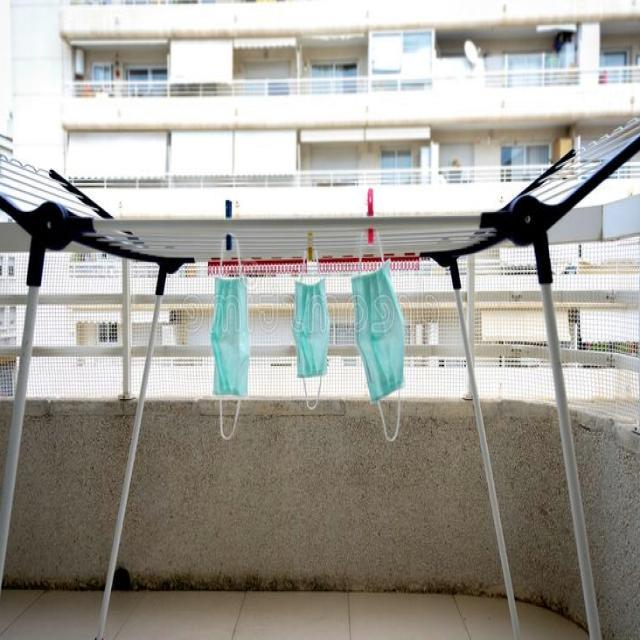clothes: (204, 278, 400, 465)
